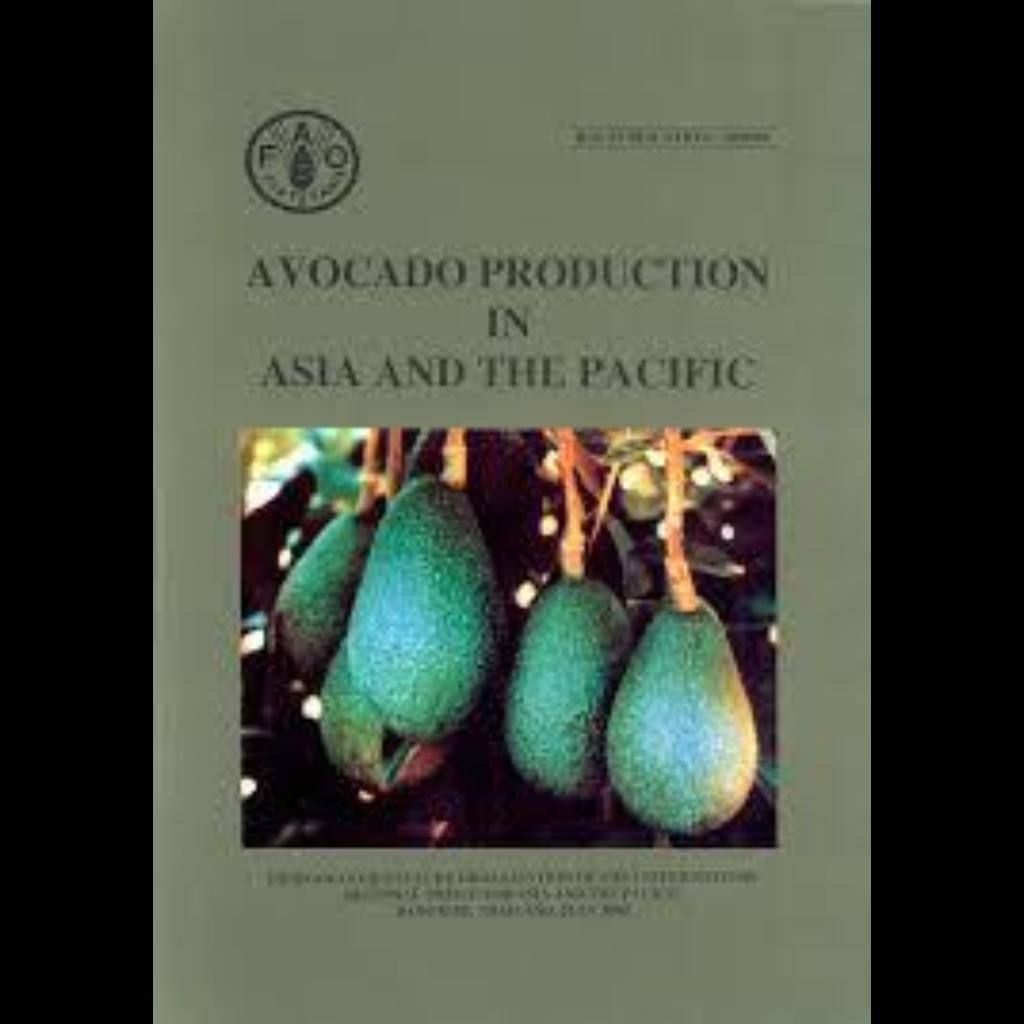cercospora: (632, 616, 766, 841), (267, 493, 363, 669)
